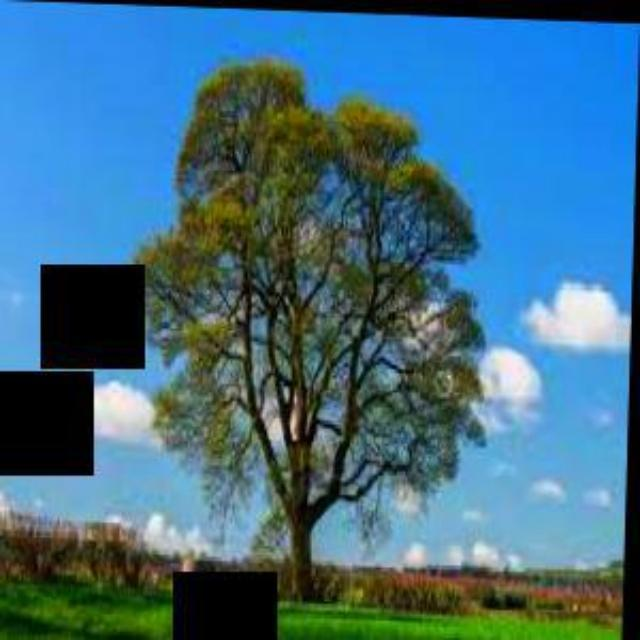tree: (128, 43, 498, 597)
